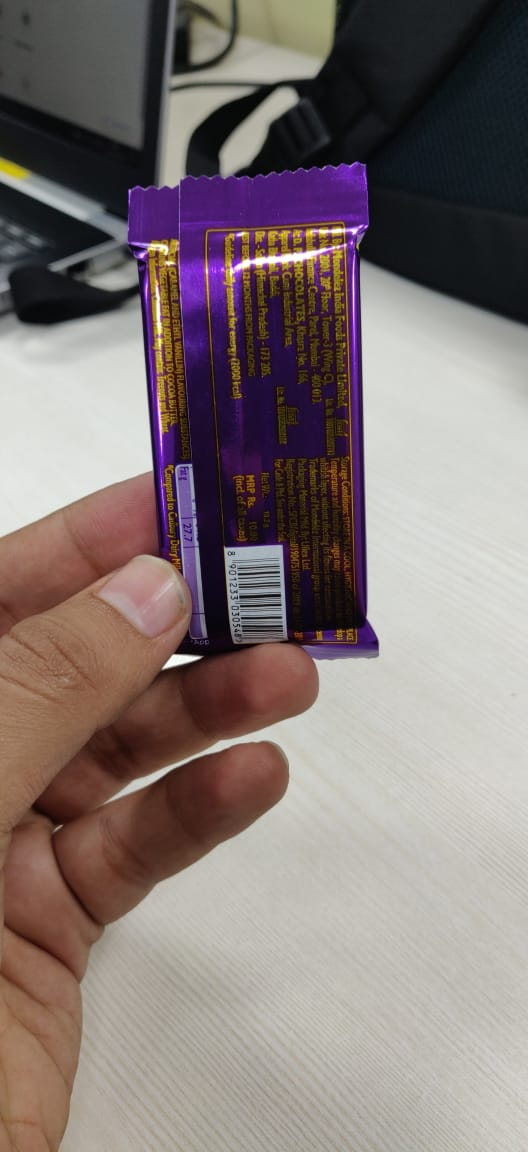dairy milk: (108, 144, 412, 697)
